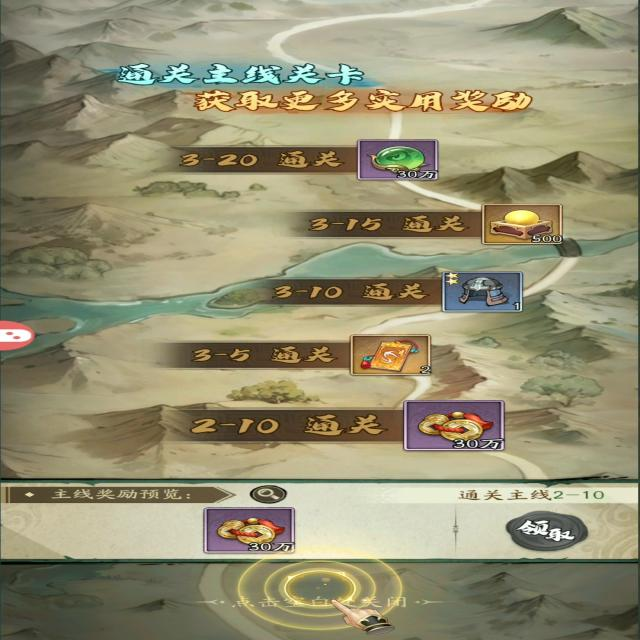hint-guide: (221, 555, 401, 630)
operation-confirm-off: (480, 507, 597, 559)
operation-preview: (251, 483, 290, 509)
